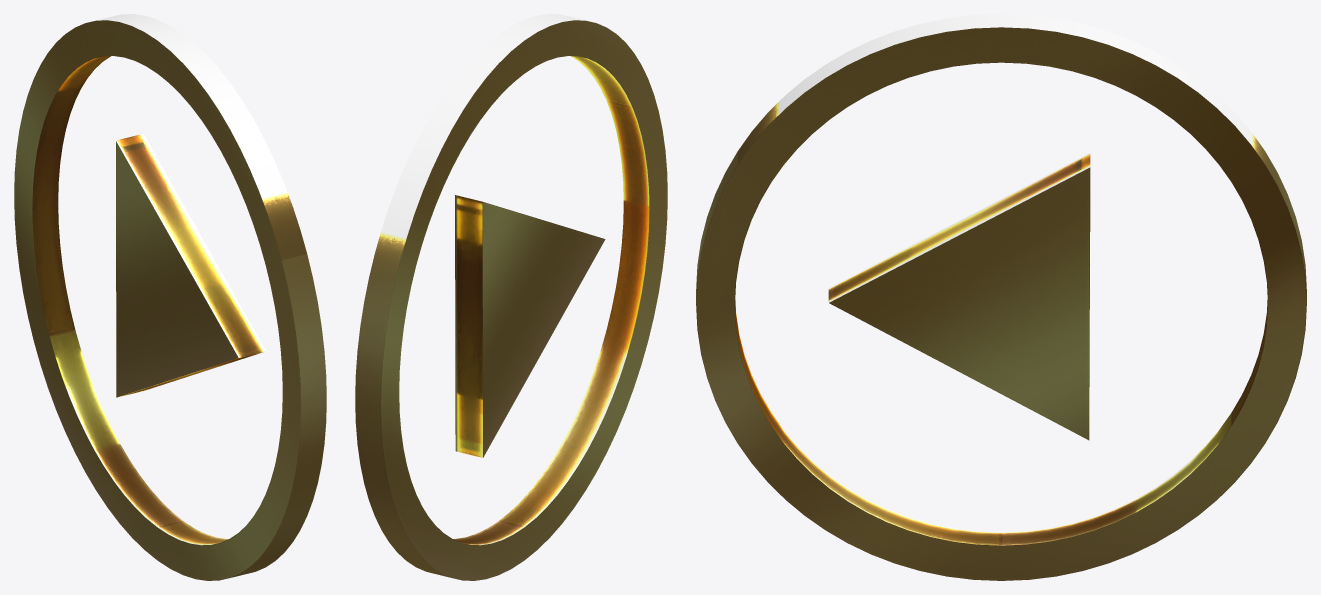
File: Play.gltf
The picture shows the model from 3 angles, left to right: view 1: azimuth 30°, elevation 25°; view 2: azimuth 150°, elevation 25°; view 3: azimuth 270°, elevation 25°; orthographic projection. The views are drawn at different scales.
Visible parts, largest first — view 1: Star001; view 2: Star001; view 3: Star001.
Boxes of the visible parts, <box> form: Star001: <box>14,14,326,580</box>; Star001: <box>355,14,667,580</box>; Star001: <box>696,14,1306,580</box>.
Bounding box in the file's own units: 0.0643 × 1.16 × 1.16.
Materials: 1 (1 with a texture image).
